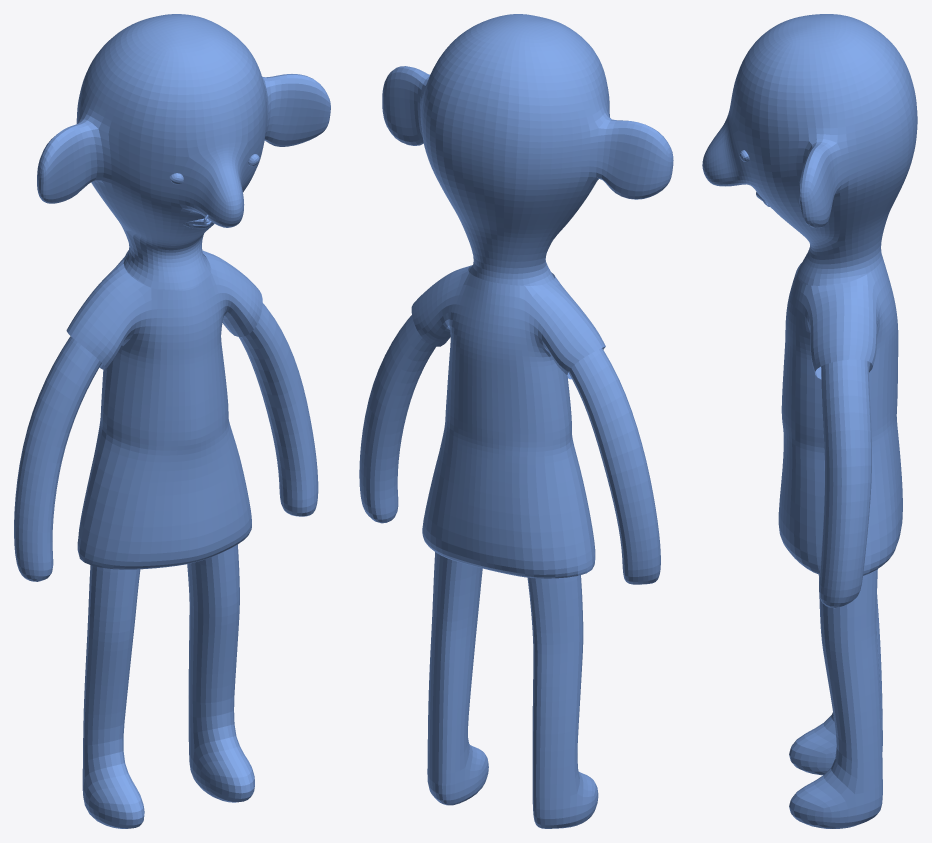
Rendered from PrincipalJoin 1.fbx.
3 renders of one model, left to right at view 1: azimuth 30°, elevation 25°; view 2: azimuth 150°, elevation 25°; view 3: azimuth 270°, elevation 25°, orthographic.
Visible parts, largest first — view 1: Ojo.002; view 2: Ojo.002; view 3: Ojo.002.
Part boxes in pixels (x1,y1,x2,y2): Ojo.002: [14, 14, 330, 828]; Ojo.002: [359, 14, 673, 828]; Ojo.002: [702, 14, 917, 828].
Bounding box in the file's own units: 584 × 1464 × 369.
